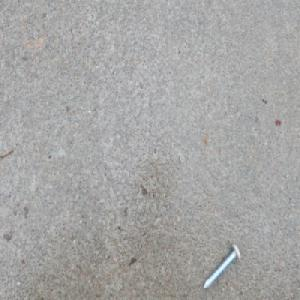Nail: (201, 241, 239, 291)
